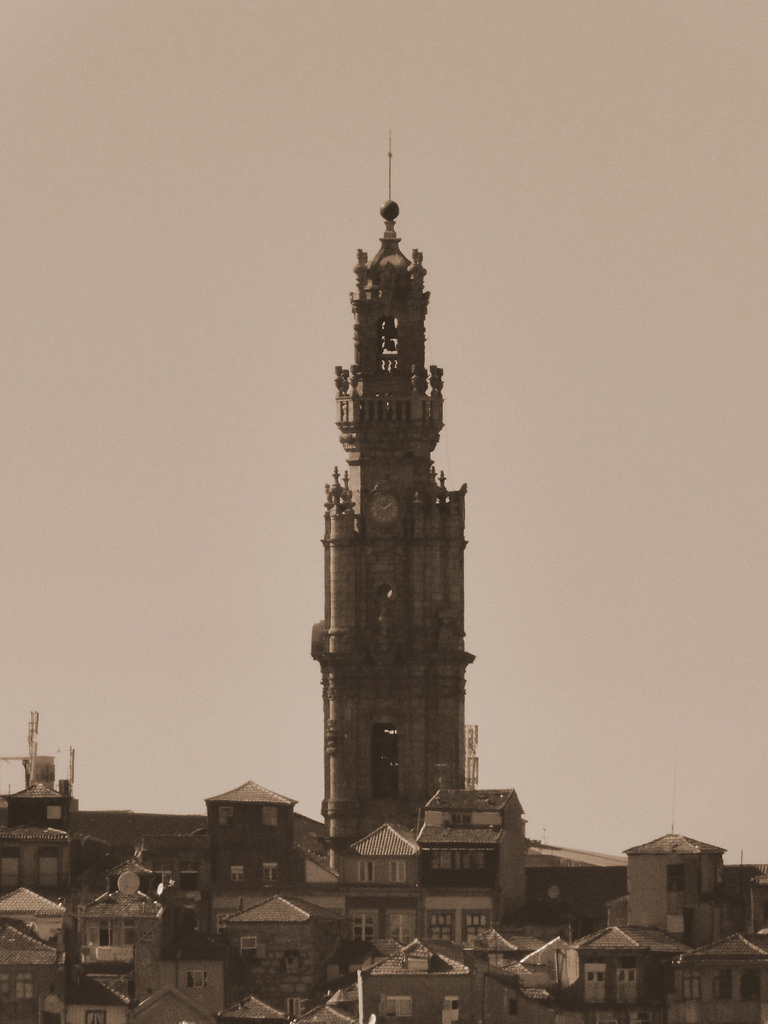clerigos: (310, 125, 479, 872)
